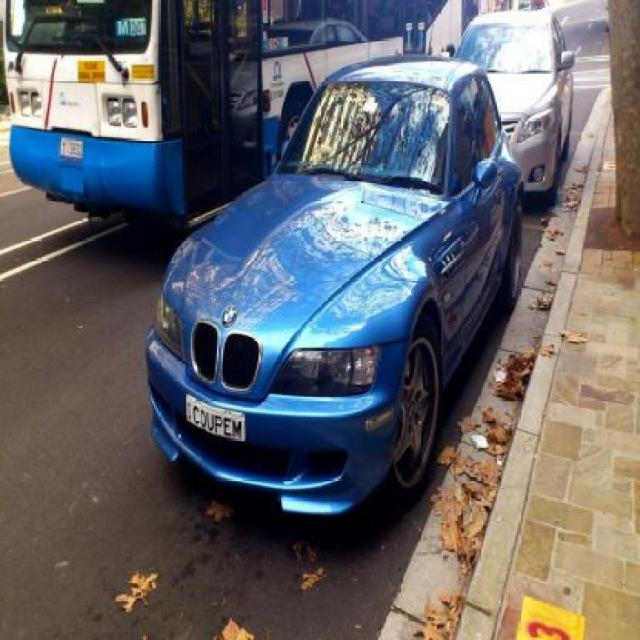License-Plates: (186, 394, 246, 443)
